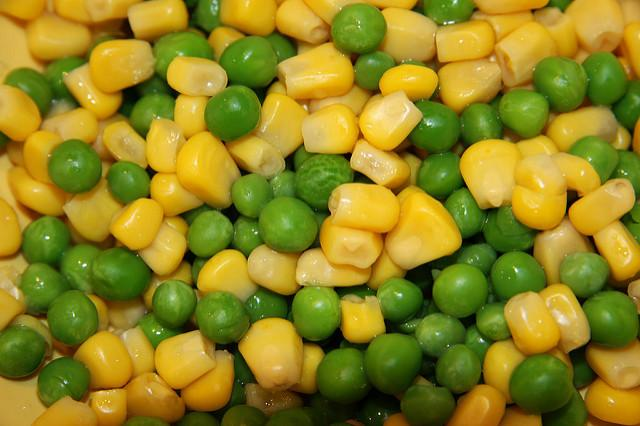boiled peas: (26, 227, 122, 330), (387, 275, 477, 381), (234, 180, 324, 238), (535, 44, 590, 120), (430, 164, 482, 231), (208, 89, 264, 136), (421, 98, 464, 149), (185, 210, 229, 249)
